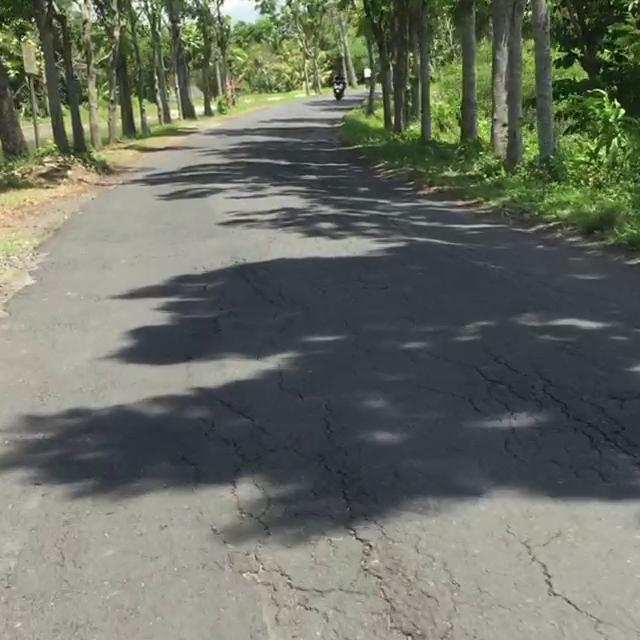retak_kulit_buaya: (184, 382, 414, 640), (509, 361, 640, 589)
